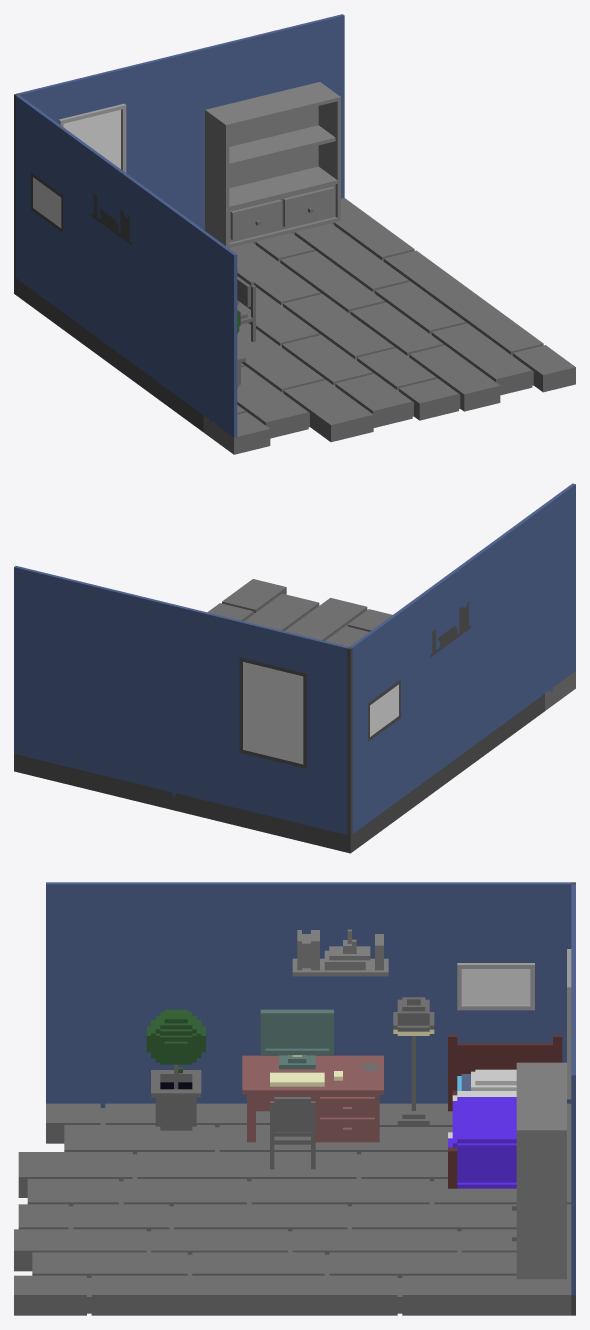
Rendered from room-ludum-dare.obj.
The picture shows the model from 3 angles, top to bottom: view 1: azimuth 30°, elevation 25°; view 2: azimuth 150°, elevation 25°; view 3: azimuth 270°, elevation 25°; orthographic projection. The views are drawn at different scales.
Size of the model in its own units: 100 by 58 by 123.
